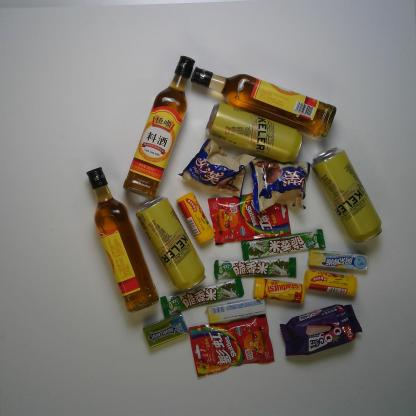Alcohol: (309, 144, 384, 247), (133, 194, 208, 293), (201, 101, 304, 164)
Candy: (187, 312, 278, 380), (206, 192, 292, 246), (175, 190, 216, 245), (205, 296, 270, 326), (307, 247, 370, 276), (301, 268, 360, 298), (252, 276, 306, 306)
Chocolate: (159, 275, 246, 321), (240, 228, 327, 261), (213, 256, 299, 282)
Dessert: (176, 138, 257, 202), (278, 302, 365, 358), (249, 157, 313, 214)
Gum: (142, 311, 191, 351)
Seasoner: (188, 64, 338, 142), (84, 165, 161, 316), (120, 52, 197, 200)
